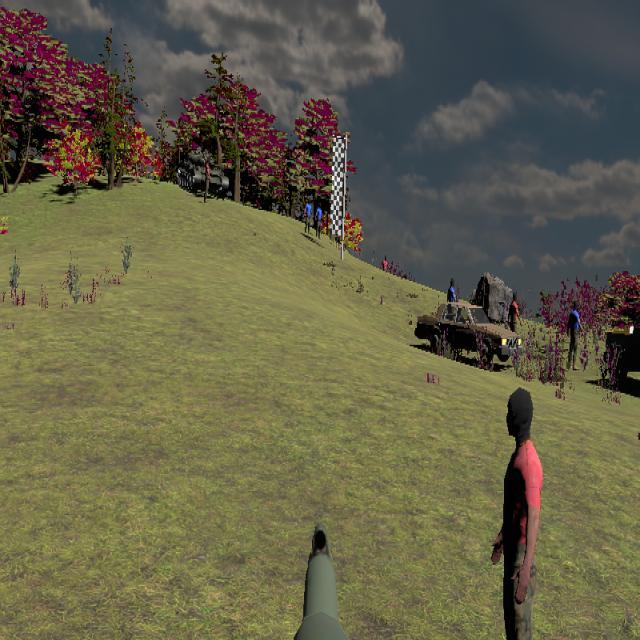Human: (492, 385, 545, 640), (566, 299, 584, 371)
Tank: (176, 148, 230, 199)
car: (414, 302, 522, 365)
